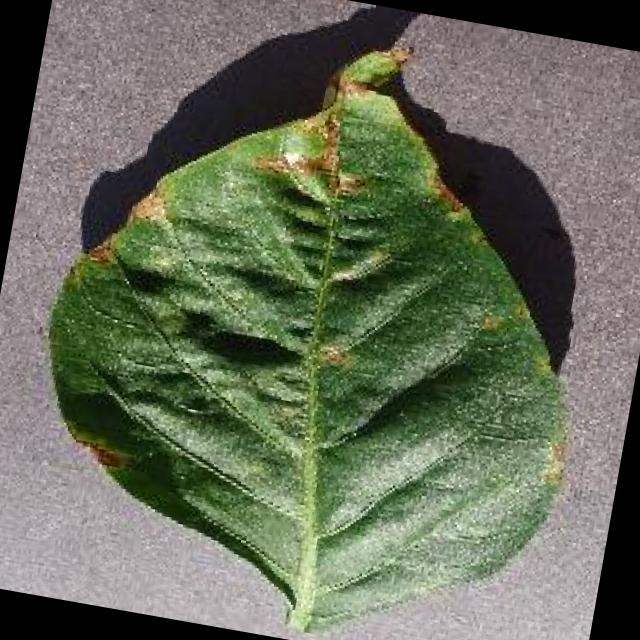Chilli_Bacterial_Spot: (0, 0, 636, 640), (247, 18, 491, 226), (247, 96, 381, 208), (78, 172, 174, 276), (330, 28, 415, 104), (418, 163, 471, 216), (74, 434, 136, 474), (124, 180, 173, 229), (538, 436, 570, 490), (312, 337, 352, 373), (78, 232, 118, 268), (380, 37, 417, 70), (473, 307, 504, 336), (350, 1, 380, 10)
